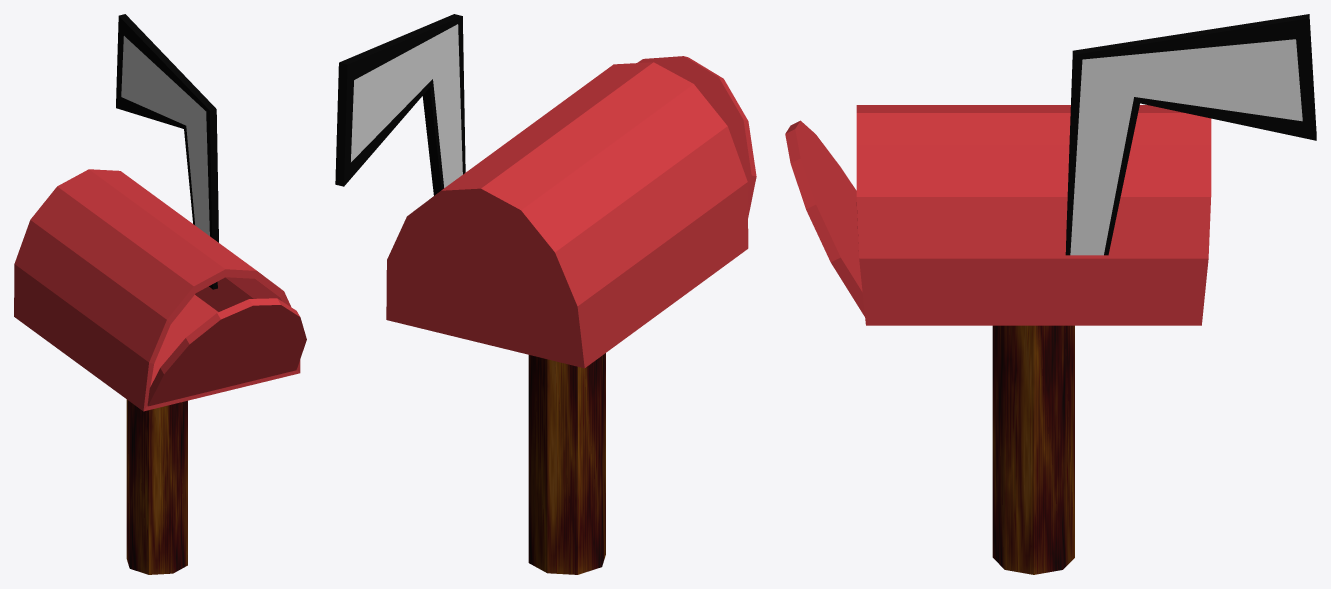
Rendered from MailBox1.fbx.
3 renders of one model, left to right at view 1: azimuth 30°, elevation 25°; view 2: azimuth 150°, elevation 25°; view 3: azimuth 270°, elevation 25°, orthographic. The views are drawn at different scales.
Visible parts, largest first — view 1: PostBox.001, PostBox, Notifcation; view 2: PostBox.001, PostBox, Notifcation; view 3: PostBox.001, Notifcation, PostBox.
Boxes of the visible parts, x1,y1,x2,y2 form: PostBox.001: (14,169,306,411); PostBox: (126,399,187,574); Notifcation: (116,14,218,289); PostBox.001: (386,56,756,368); PostBox: (528,353,605,574); Notifcation: (335,14,465,195); PostBox.001: (785,105,1211,325); Notifcation: (1065,14,1316,255); PostBox: (992,325,1074,574).
Bounding box in the file's own units: 7.04 × 19.39 × 15.93.
